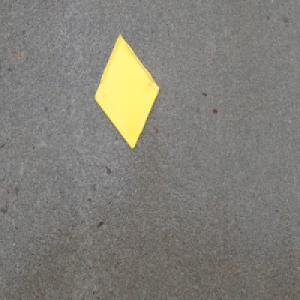PlasticPart: (92, 32, 160, 150)
